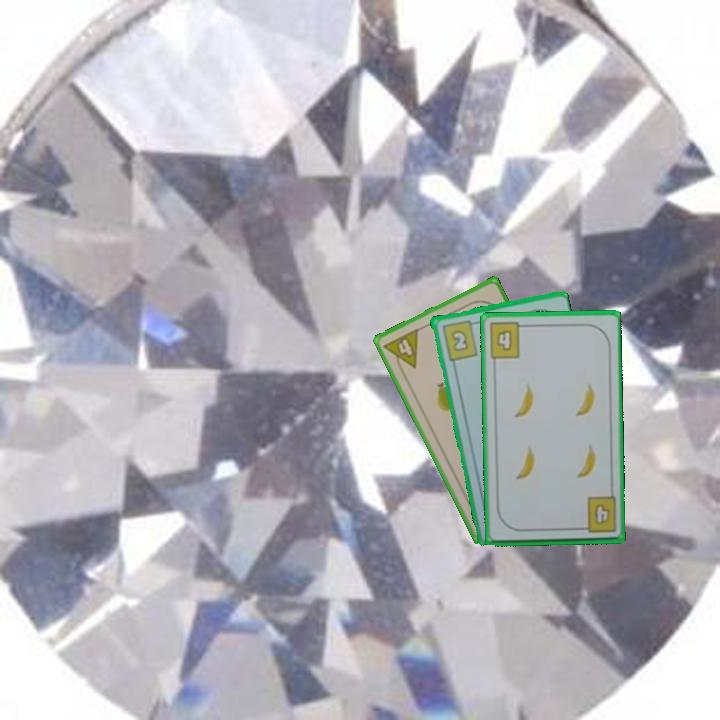2b: (438, 316, 480, 363)
4b: (485, 319, 529, 361), (575, 494, 619, 536)
4p: (380, 325, 421, 377)
